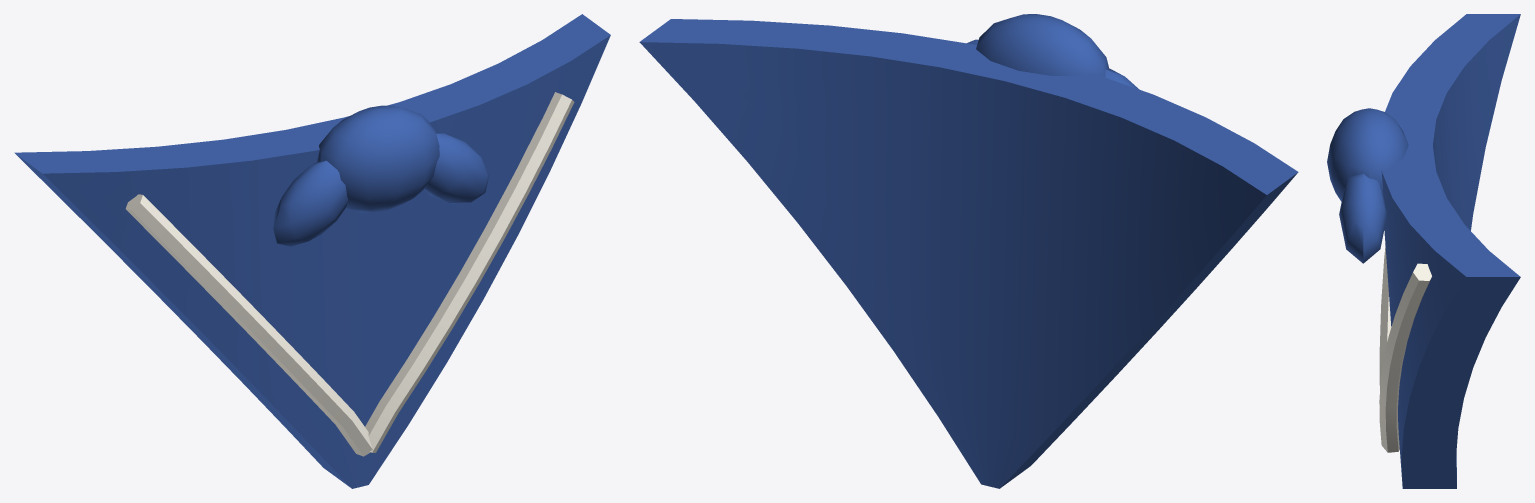
The model's file is sig_bandana.gltf.
The picture shows the model from 3 angles, left to right: view 1: azimuth 30°, elevation 25°; view 2: azimuth 150°, elevation 25°; view 3: azimuth 270°, elevation 25°; orthographic projection. The views are drawn at different scales.
Parts seen in each view (by area): view 1: sig_bandana; view 2: sig_bandana; view 3: sig_bandana.
Boxes of the visible parts, x1=… form: sig_bandana: x1=14, y1=14, x2=610, y2=488; sig_bandana: x1=639, y1=14, x2=1298, y2=488; sig_bandana: x1=1327, y1=14, x2=1520, y2=488.
Size of the model in its own units: 1 by 0.6553 by 0.3115.
